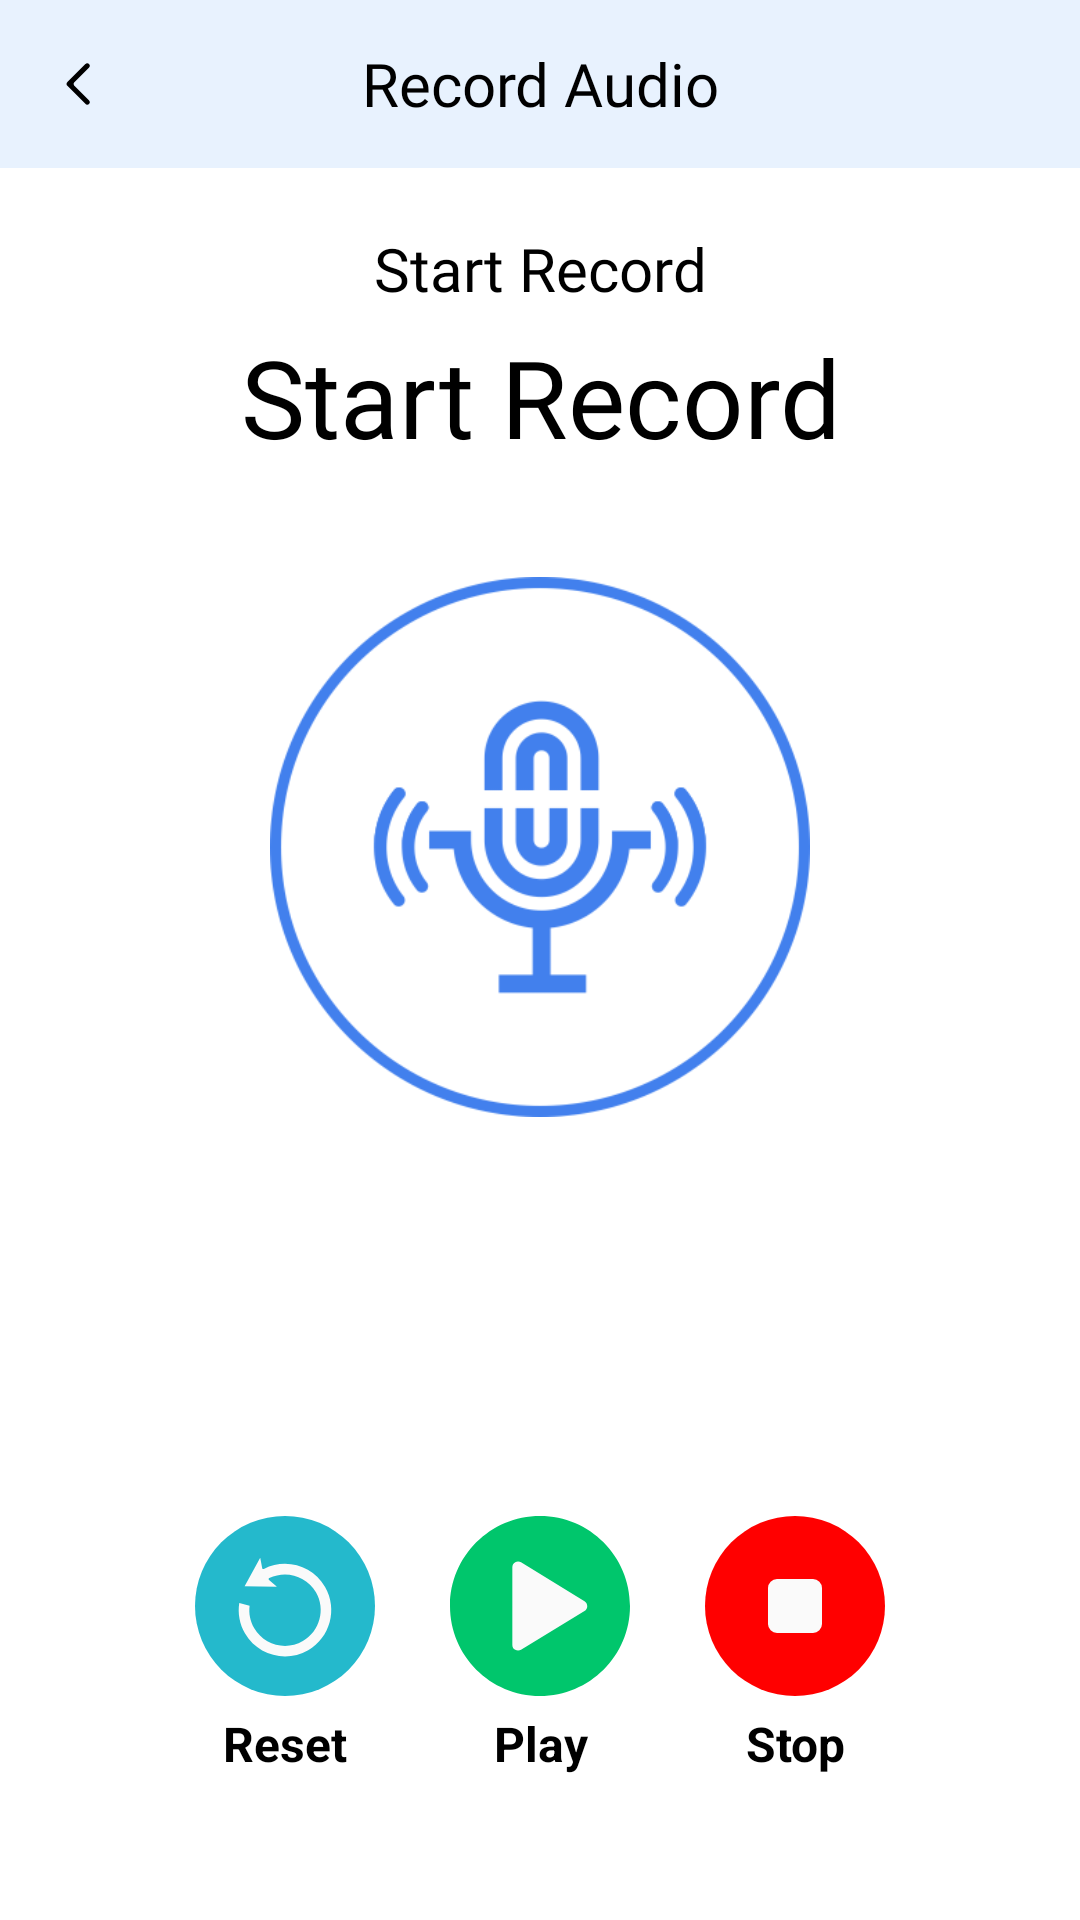

Screen size 1080px x 1920px. Icon name, then its center in pixels as (x=x, y=y):
arrow back: (x=78, y=84)
